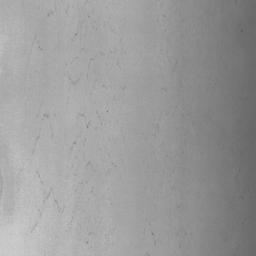Silk spot: (43, 188, 54, 203), (54, 199, 65, 213), (69, 76, 80, 85), (0, 170, 3, 199)
